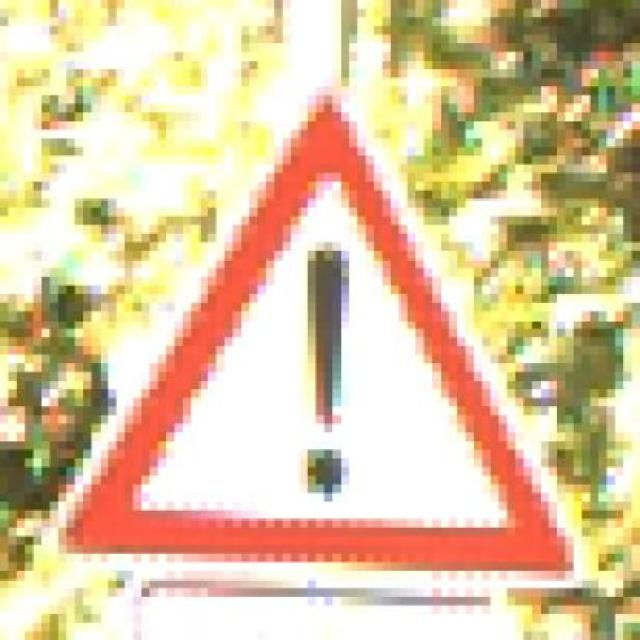Attention Please-: (41, 96, 582, 598)
